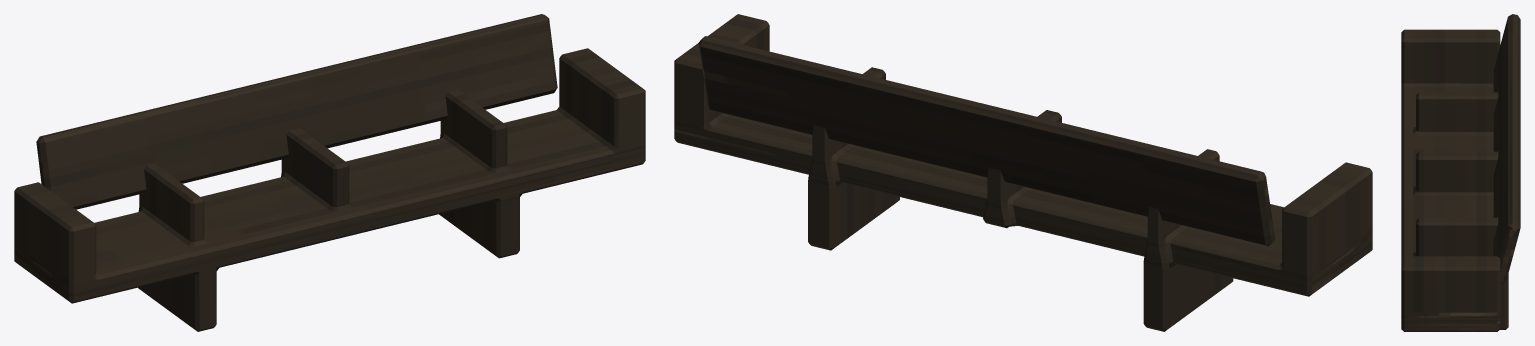
File: Bench.fbx
3 views of the same model, side by side, from view 1: azimuth 30°, elevation 25°; view 2: azimuth 150°, elevation 25°; view 3: azimuth 270°, elevation 25° (orthographic). The views are drawn at different scales.
Parts seen in each view (by area): view 1: pCube1, pCube2; view 2: pCube1, pCube2; view 3: pCube1, pCube2.
Boxes of the visible parts, x1,y1,x2,y2 form: pCube1: [14, 48, 645, 331]; pCube2: [36, 14, 557, 209]; pCube1: [674, 14, 1372, 331]; pCube2: [698, 36, 1275, 246]; pCube1: [1401, 29, 1508, 331]; pCube2: [1493, 14, 1520, 284].
Bounding box in the file's own units: 7.06 × 2 × 1.48.
